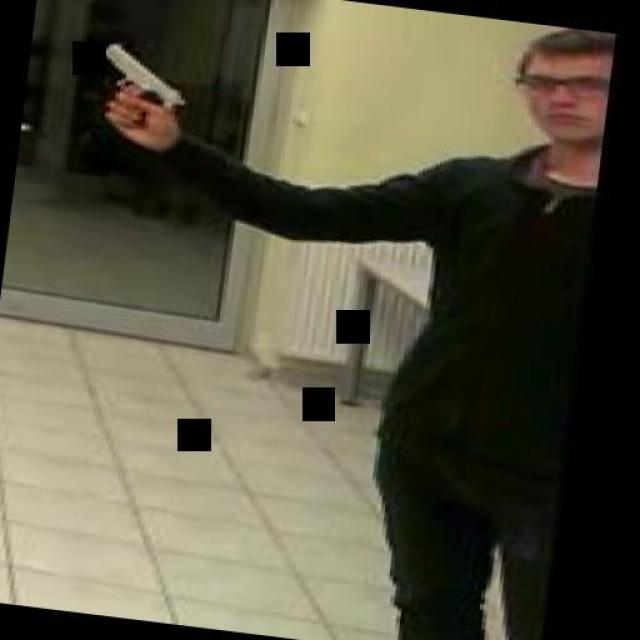gun: (75, 35, 195, 136)
